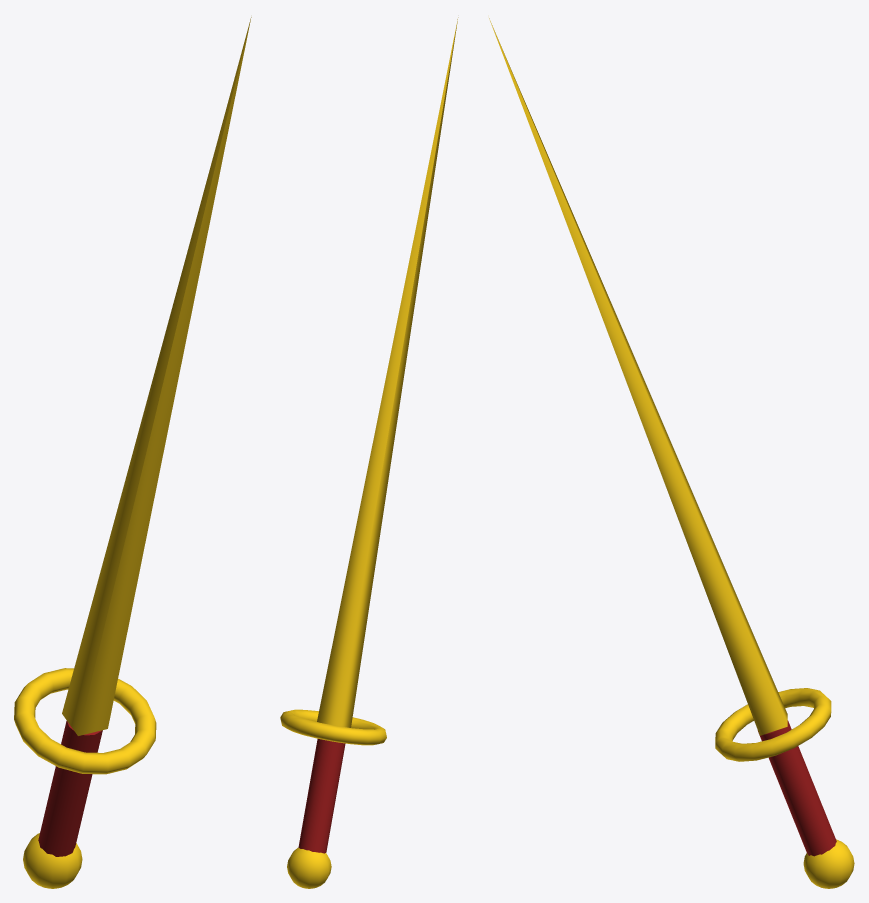
The model's file is sun_rapier.glb.
3 renders of one model, left to right at view 1: azimuth 30°, elevation 25°; view 2: azimuth 150°, elevation 25°; view 3: azimuth 270°, elevation 25°, orthographic. The views are drawn at different scales.
Visible parts, largest first — view 1: rapier_blade, rapier_guard, rapier_grip, rapier_pommel; view 2: rapier_blade, rapier_grip, rapier_guard, rapier_pommel; view 3: rapier_blade, rapier_guard, rapier_grip, rapier_pommel.
Boxes of the visible parts, x1,y1,x2,y2 form: rapier_blade: (62,17,251,735); rapier_guard: (14,668,156,774); rapier_grip: (38,721,102,856); rapier_pommel: (23,833,82,888); rapier_blade: (317,17,458,727); rapier_grip: (298,739,345,853); rapier_guard: (280,709,386,745); rapier_pommel: (287,847,331,888); rapier_blade: (489,18,787,735); rapier_guard: (715,688,831,761); rapier_grip: (758,720,836,856); rapier_pommel: (803,839,854,888).
Size of the model in its own units: 0.108 by 0.8302 by 0.3164.
